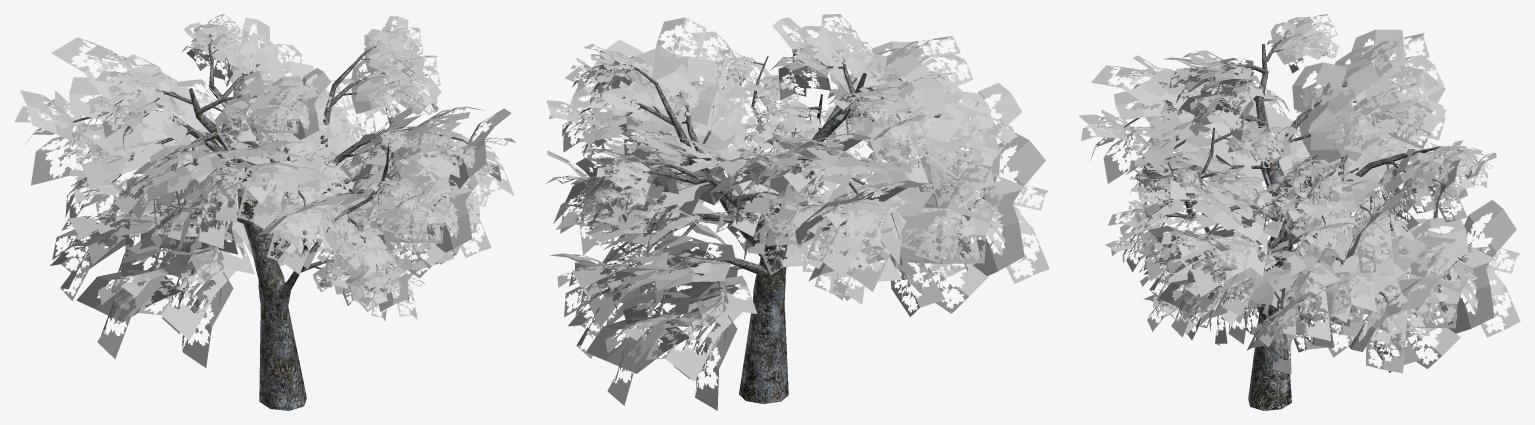
File: bark.fbx
3 renders of one model, left to right at view 1: azimuth 30°, elevation 25°; view 2: azimuth 150°, elevation 25°; view 3: azimuth 270°, elevation 25°, orthographic. The views are drawn at different scales.
Parts seen in each view (by area): view 1: tree oak joined; view 2: tree oak joined; view 3: tree oak joined.
Boxes of the visible parts, bbox=[...] form: tree oak joined: bbox=[14, 14, 515, 410]; tree oak joined: bbox=[545, 14, 1049, 410]; tree oak joined: bbox=[1079, 14, 1520, 410].
Bounding box in the file's own units: 5.7 × 4.35 × 5.36.
